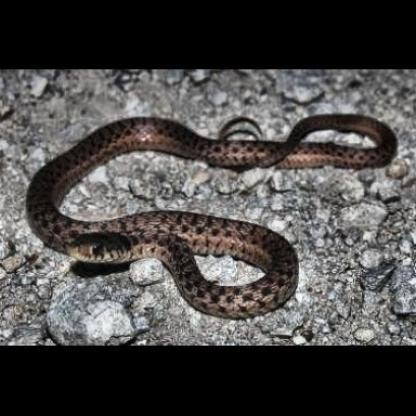Snake: (24, 102, 404, 316)
